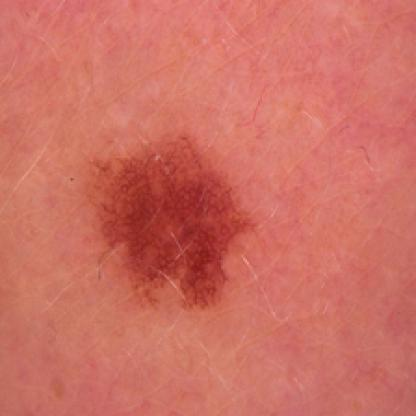benign: (98, 126, 268, 323)
